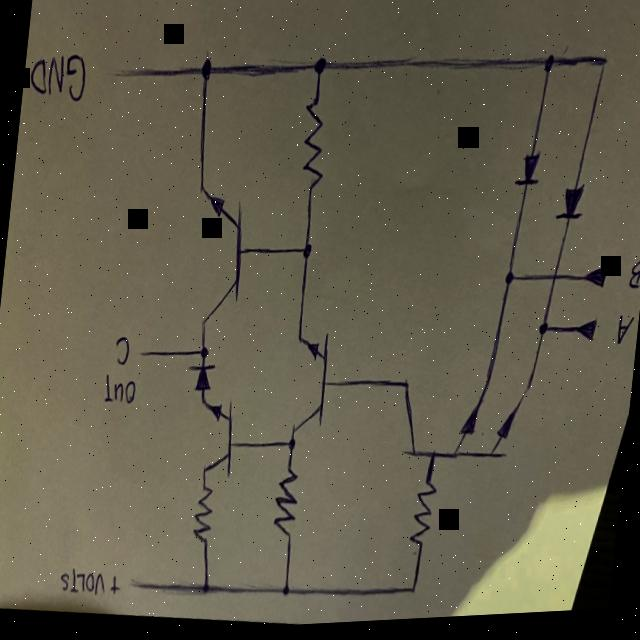crossover: (546, 275, 560, 293)
diode: (512, 149, 545, 206), (554, 183, 588, 238), (185, 363, 218, 399)
junction: (192, 51, 218, 94), (309, 49, 332, 87), (536, 53, 560, 86), (296, 239, 316, 272), (593, 54, 612, 86), (500, 271, 520, 301), (276, 580, 296, 607), (197, 577, 214, 606), (535, 322, 552, 350), (284, 438, 300, 463), (194, 345, 212, 365), (405, 587, 421, 607)
resistor: (292, 98, 332, 201), (270, 468, 302, 549), (408, 477, 438, 558), (186, 486, 217, 555)
terminal: (577, 266, 611, 300), (568, 321, 600, 353), (104, 62, 136, 94), (126, 572, 150, 598), (137, 347, 156, 369)
text: (26, 45, 90, 111), (58, 564, 108, 604), (98, 371, 140, 414), (109, 333, 132, 372), (615, 318, 635, 356), (626, 261, 640, 298), (109, 577, 122, 600)
transistor: (394, 367, 534, 482), (181, 183, 255, 337), (282, 327, 338, 442), (184, 398, 242, 487)
